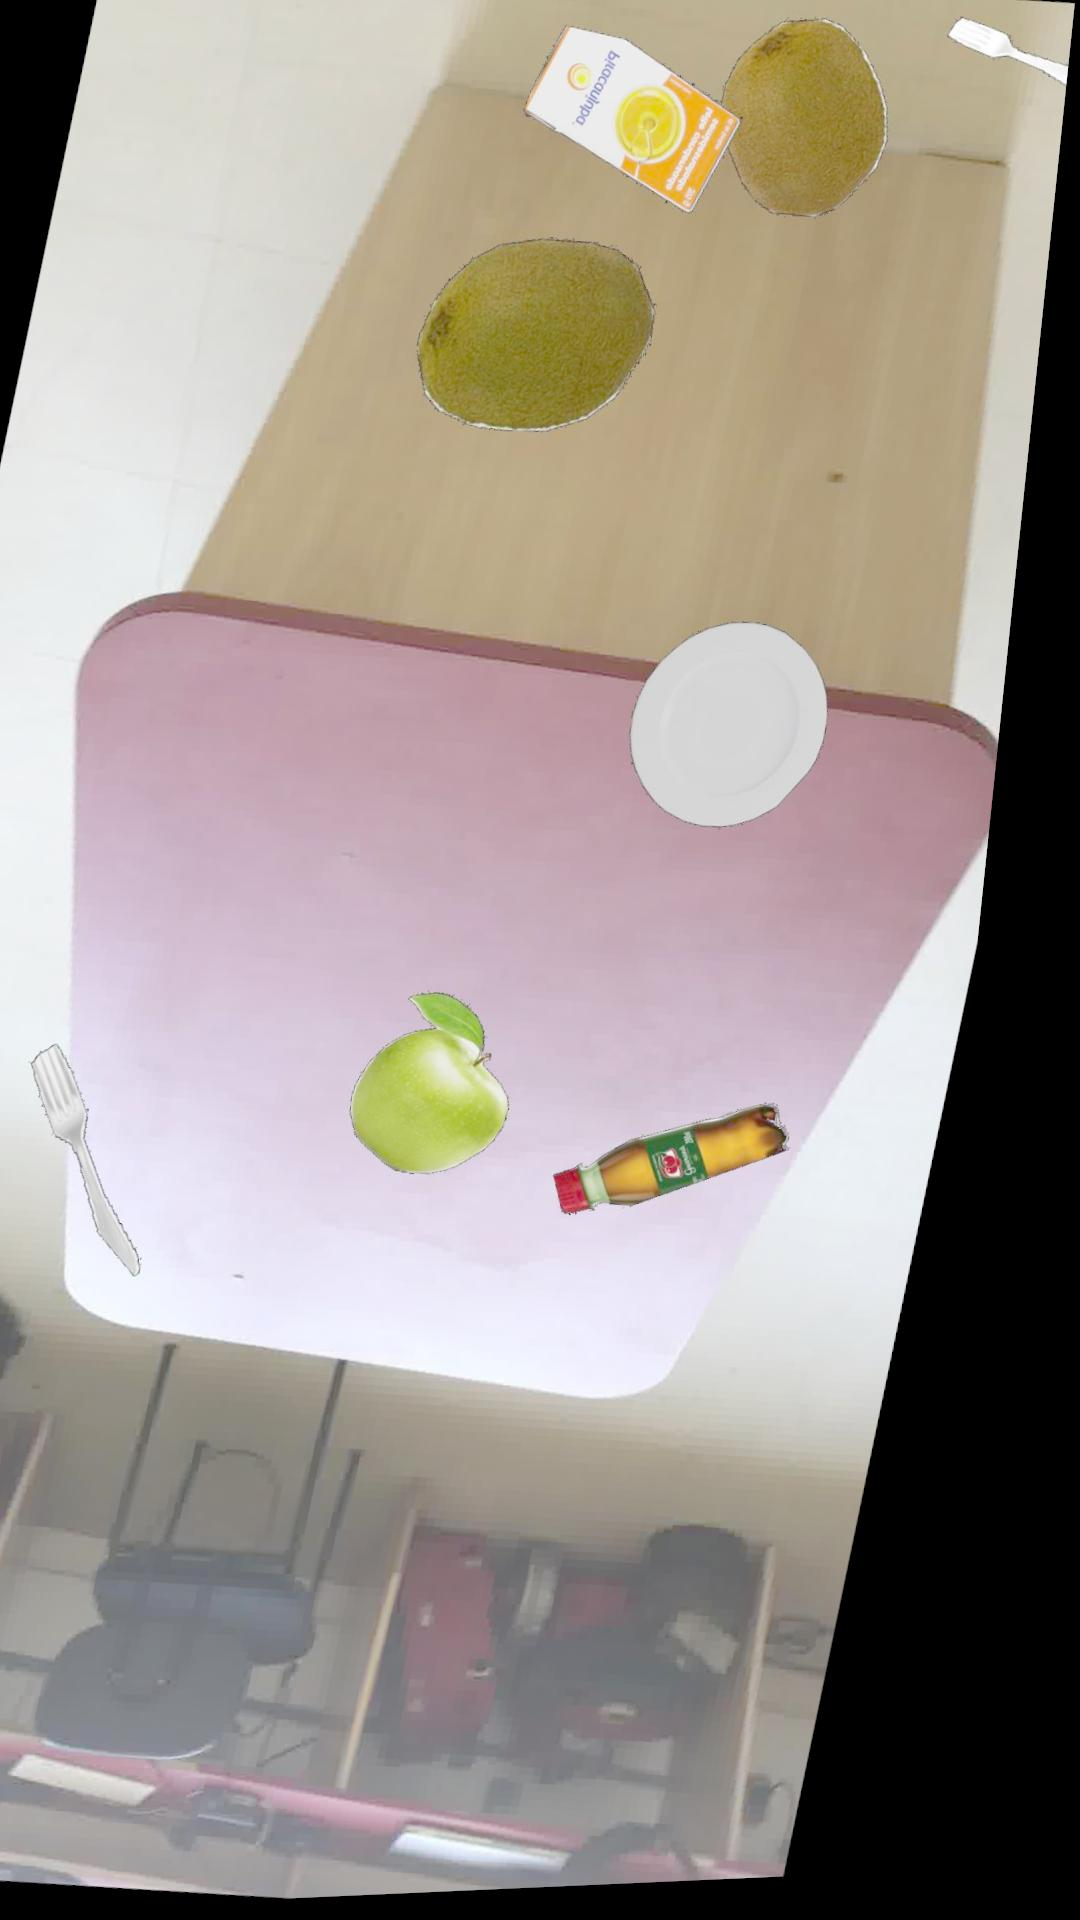fork: (55, 1047, 170, 1280), (949, 28, 1071, 96)
green apple: (376, 1000, 535, 1182)
guarana: (580, 1114, 816, 1224)
kiwi: (426, 245, 663, 439), (725, 28, 893, 227)
plate: (647, 630, 847, 837)
